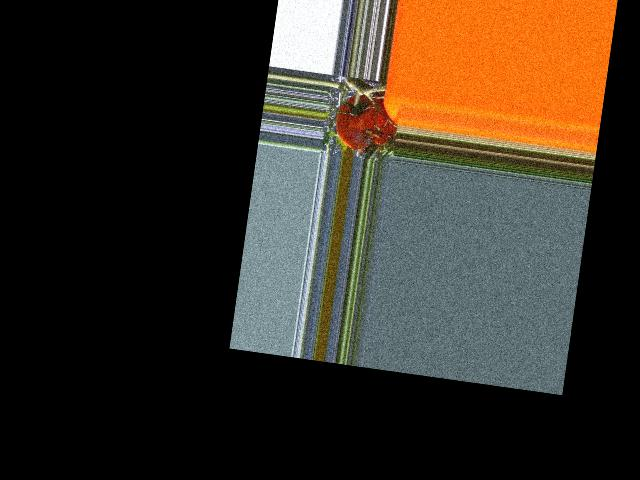tomato: (332, 91, 400, 156)
